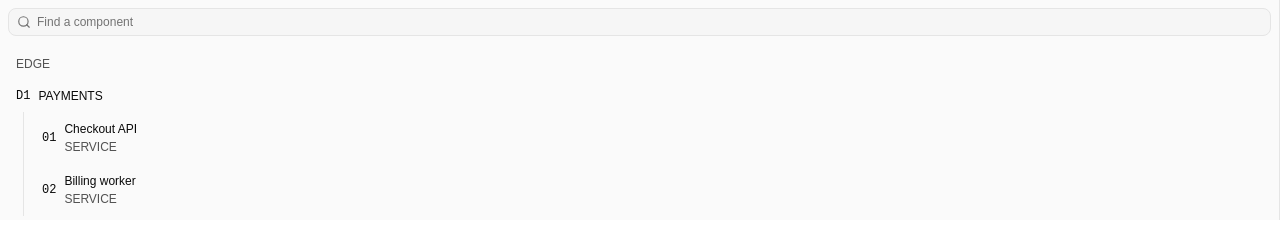
it: Sidebar › given rows and a search term, when the term is typed, then only matching rows stay visible
Type "billing" into the field labelled "Find a component". click: (650, 22)
box: [31,8,1270,36]
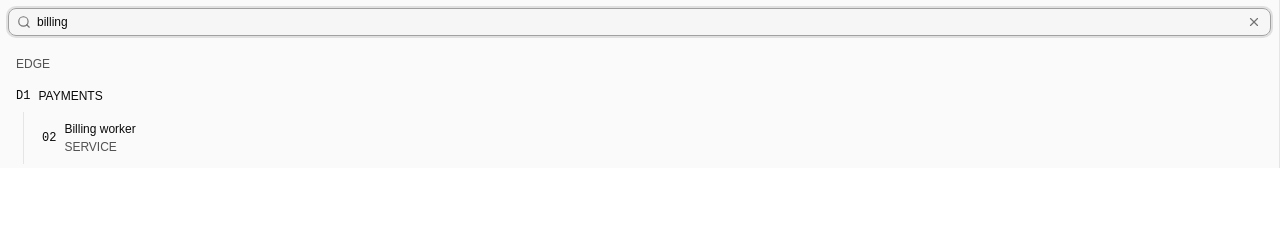
Check: the text "Billing worker" is shown, box [64,121,136,137]
Check: the button "Checkout API" is gone
